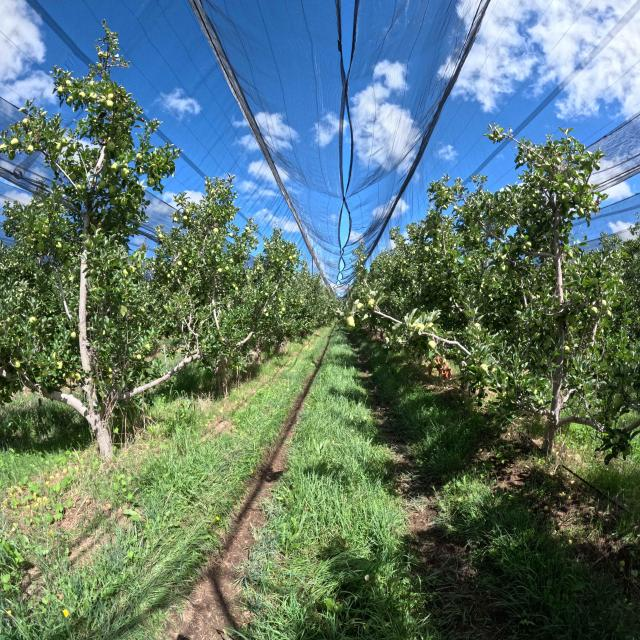-FireBlight-: (432, 355, 452, 380), (428, 364, 432, 376)
